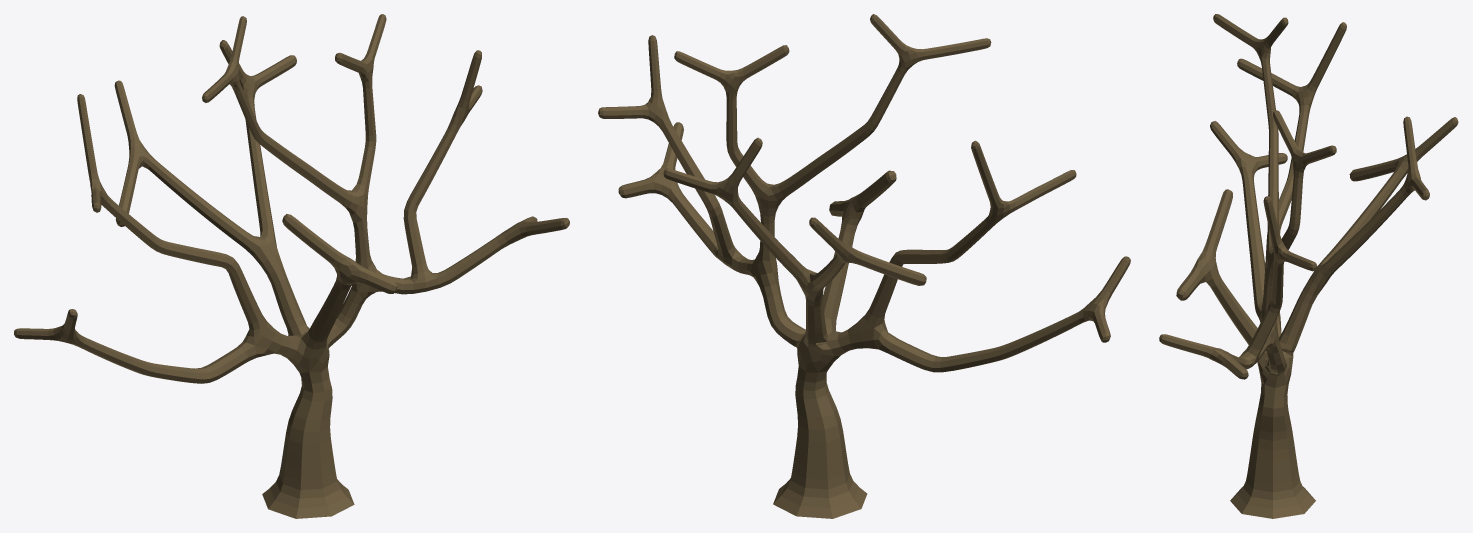
The model's file is tree_lp.fbx.
The picture shows the model from 3 angles, left to right: view 1: azimuth 30°, elevation 25°; view 2: azimuth 150°, elevation 25°; view 3: azimuth 270°, elevation 25°; orthographic projection. The views are drawn at different scales.
Visible parts, largest first — view 1: Vert; view 2: Vert; view 3: Vert.
Boxes of the visible parts, left/top/right/bottom form: Vert: left=14, top=14, right=569, bottom=518; Vert: left=598, top=14, right=1130, bottom=518; Vert: left=1159, top=14, right=1458, bottom=518.
Size of the model in its own units: 388 by 364 by 216.
